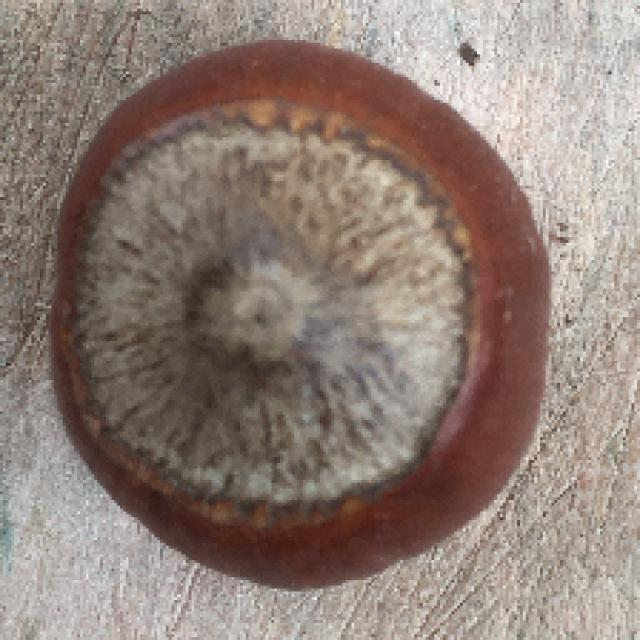qualityHazelnut: (43, 29, 560, 587)
